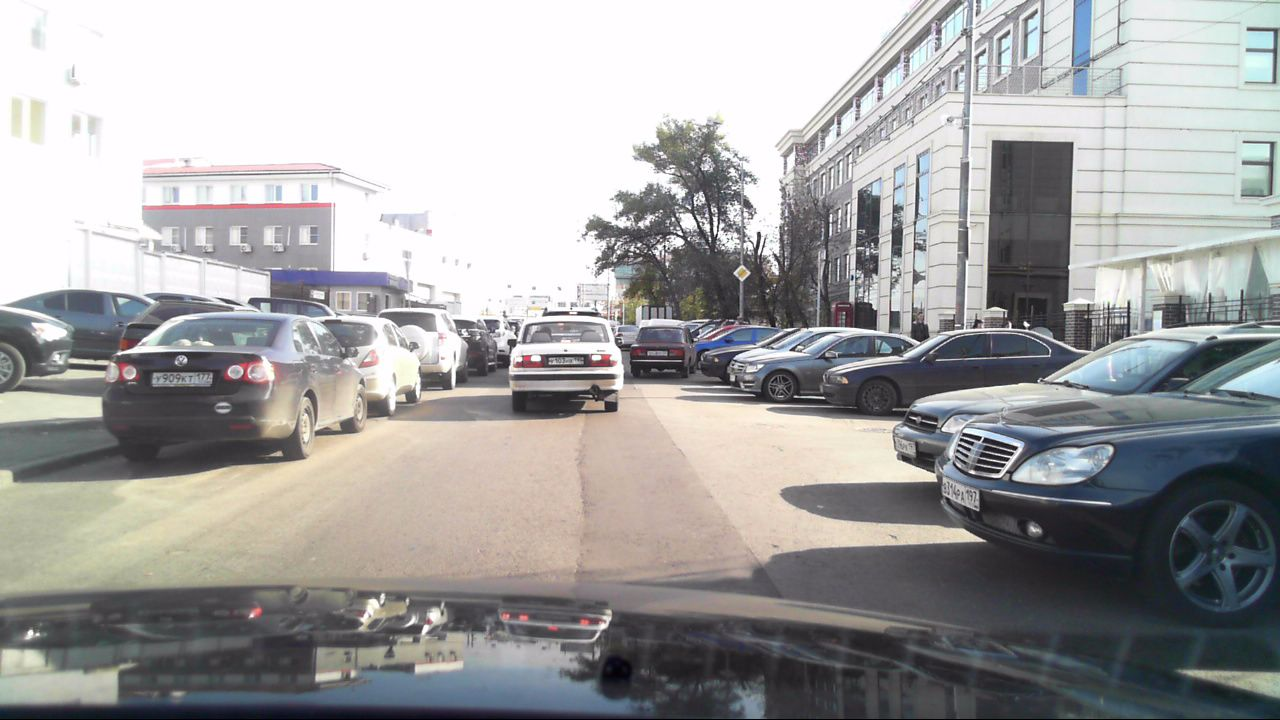main road: (732, 263, 752, 283)
